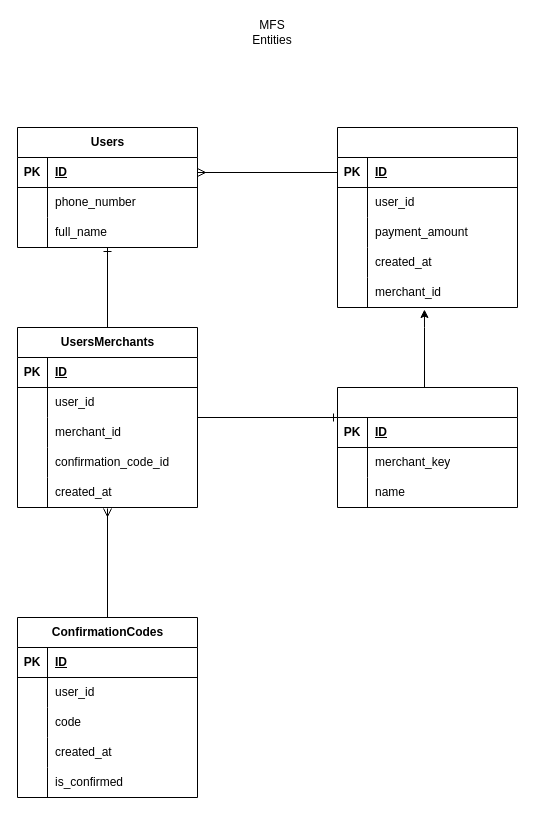
The diagram is 535 pixels wide and 815 high, and some of its shapes have lost their labels. The shapes that lost their labels are listed below. From the top down, each one's box as (x1, y1, x2, y2) in pixels, then its label:
(336, 126, 518, 308): Transactions
(336, 386, 518, 508): Merchants
